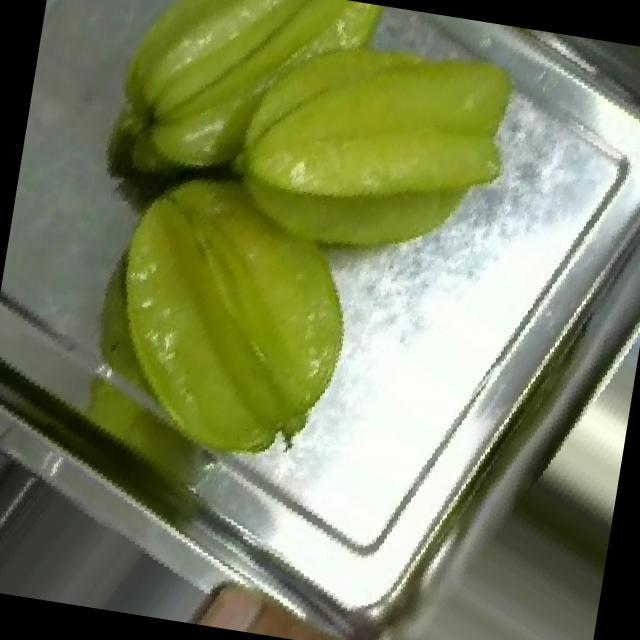fruit: (24, 99, 442, 523), (188, 0, 575, 332), (80, 0, 421, 242), (133, 555, 443, 640)
